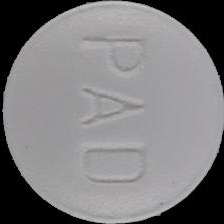0574-0145: (0, 0, 224, 224)
